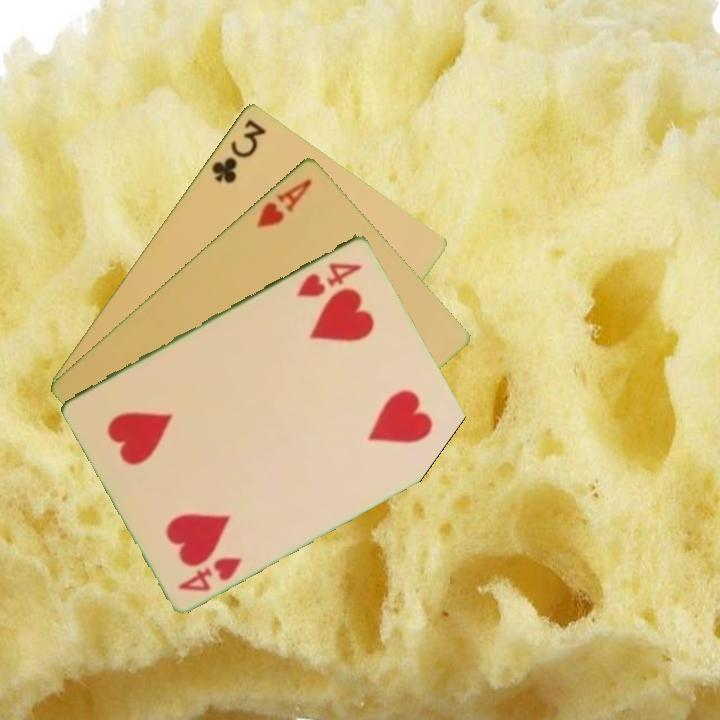3c: (207, 115, 269, 186)
4h: (293, 258, 365, 300), (174, 553, 245, 594)
Ah: (253, 174, 315, 230)
